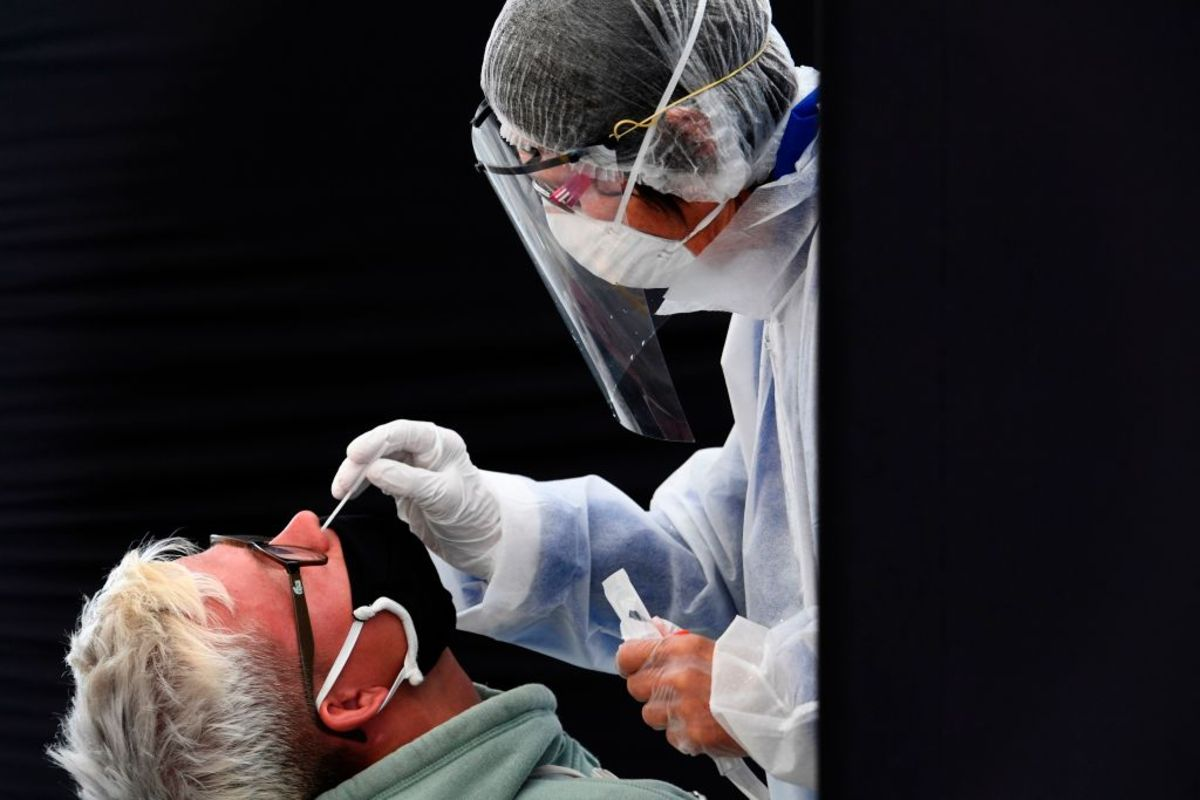Face_Shield: (468, 97, 710, 411)
Gloves: (329, 414, 519, 589)
mask_weared_incorrect: (211, 492, 471, 673)
with_mask: (527, 138, 693, 305)
